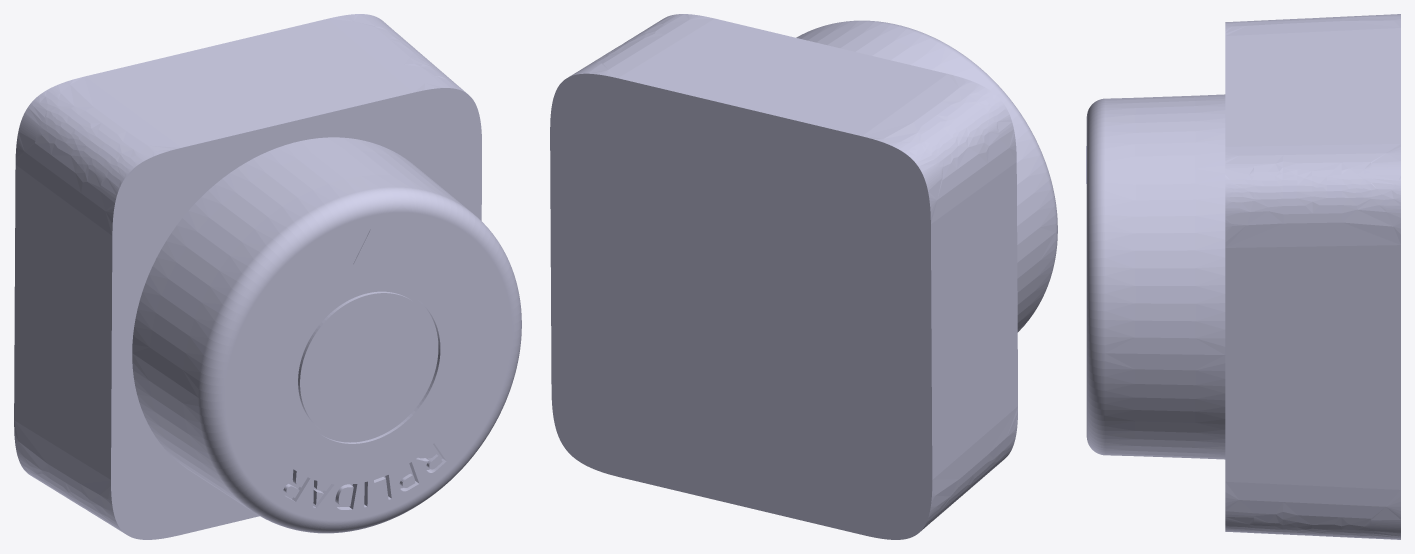
The model's file is rplidarc1.dae.
3 views of the same model, side by side, from view 1: azimuth 30°, elevation 25°; view 2: azimuth 150°, elevation 25°; view 3: azimuth 270°, elevation 25° (orthographic). The views are drawn at different scales.
Parts seen in each view (by area): view 1: node0; view 2: node0; view 3: node0.
Part boxes in pixels (x1,y1,x2,y2): node0: (14, 14, 521, 539); node0: (550, 14, 1057, 539); node0: (1086, 14, 1400, 539).
Bounding box in the file's own units: 0.0558 × 0.0414 × 0.0558.
